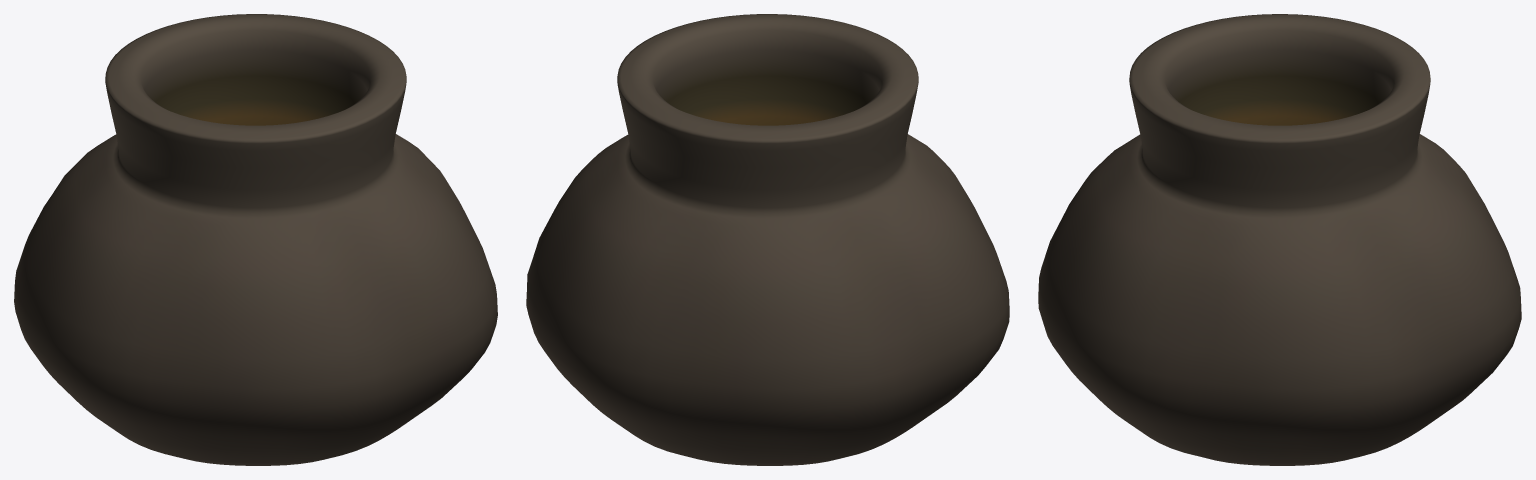
The model's file is Ore_Pouch.glb.
3 renders of one model, left to right at view 1: azimuth 30°, elevation 25°; view 2: azimuth 150°, elevation 25°; view 3: azimuth 270°, elevation 25°, orthographic.
Parts seen in each view (by area): view 1: OrePouch; view 2: OrePouch; view 3: OrePouch.
Boxes of the visible parts, x1,y1,x2,y2 form: OrePouch: (14,14,497,465); OrePouch: (526,14,1009,465); OrePouch: (1038,14,1521,465).
Size of the model in its own units: 1.96 by 1.55 by 1.97.
